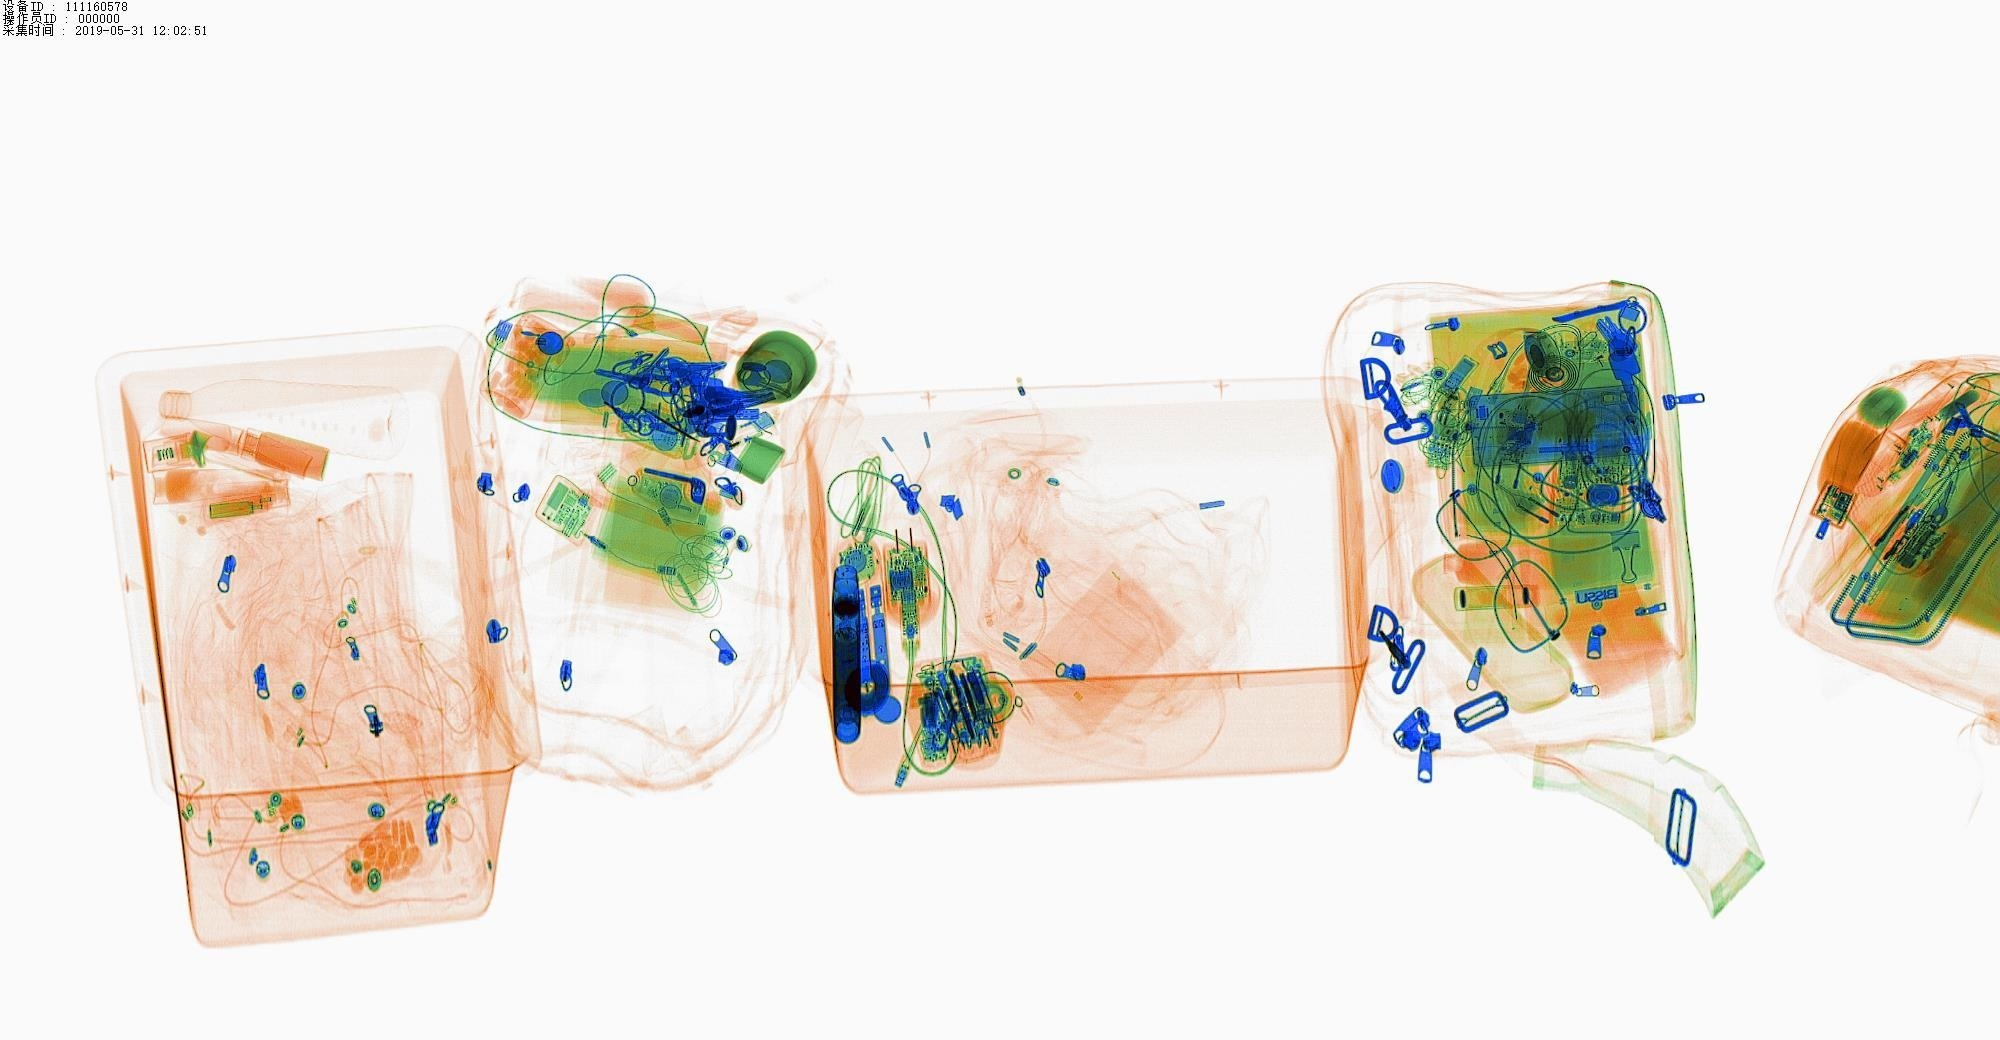NonmetallicFire: (680, 410, 810, 471)
